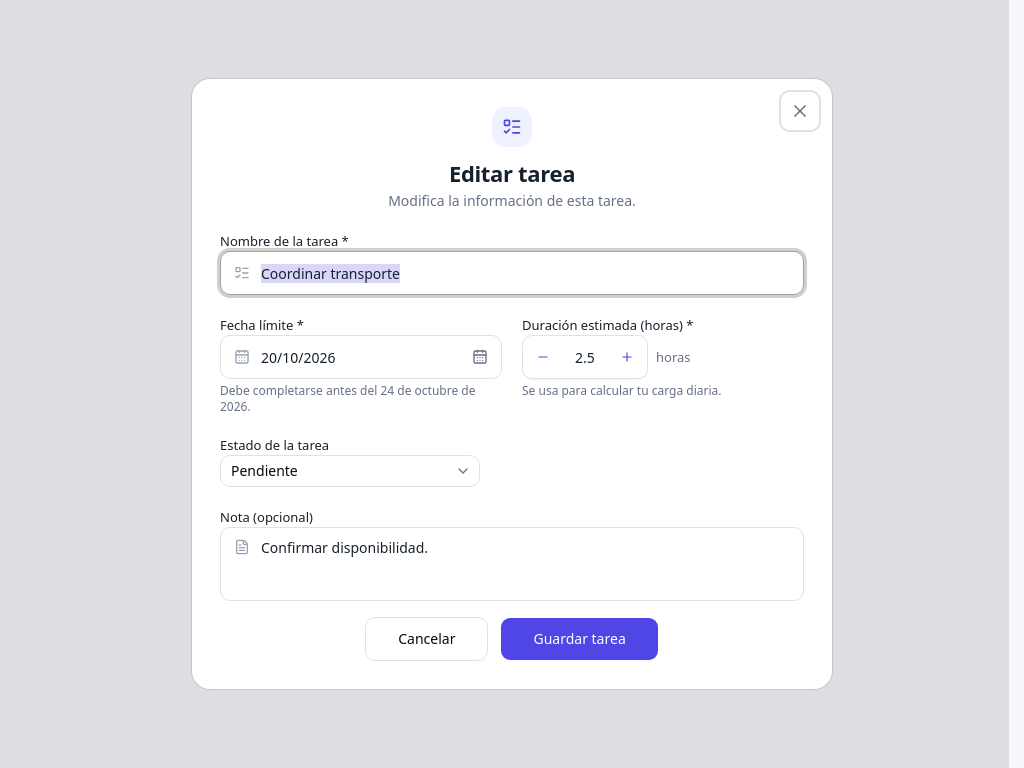
EditSubtaskDialog › rechaza horas no positivas y una fecha posterior al evento
The width and height of the screenshot is (1024, 768).
Replace the text in the field labelled "Fecha límite *" with "25/10/2026": coordinates (361, 357) [220, 335, 502, 379]
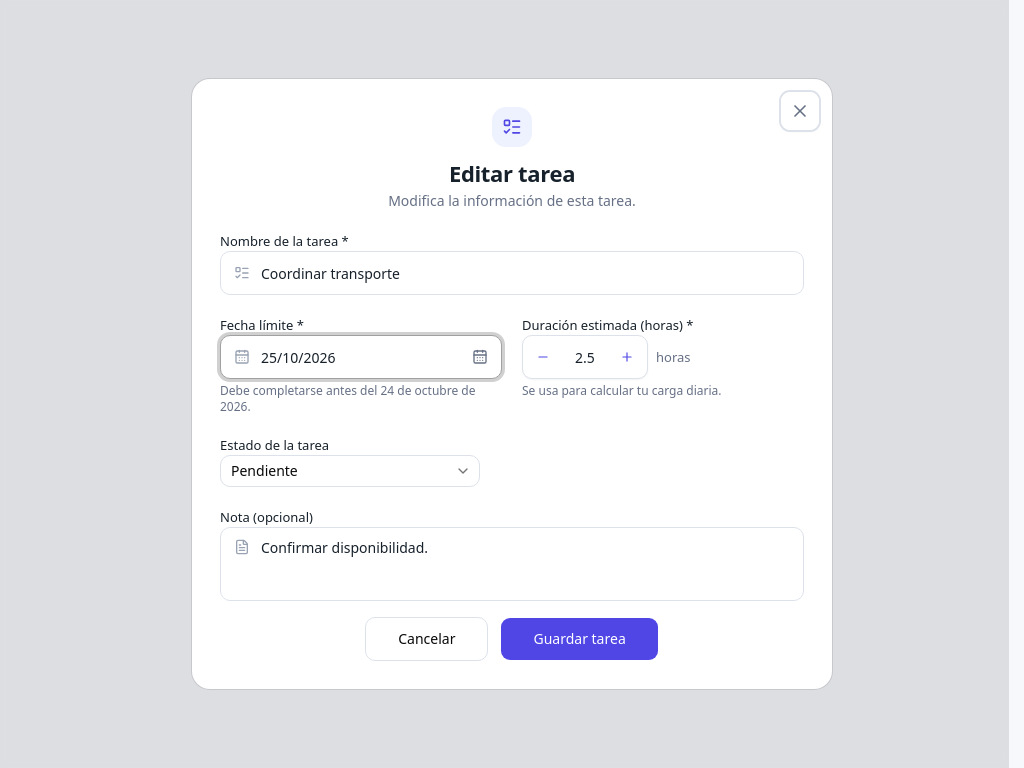
Replace the text in the number field named "Tiempo estimado *" with "0": coordinates (585, 357) [557, 341, 613, 373]
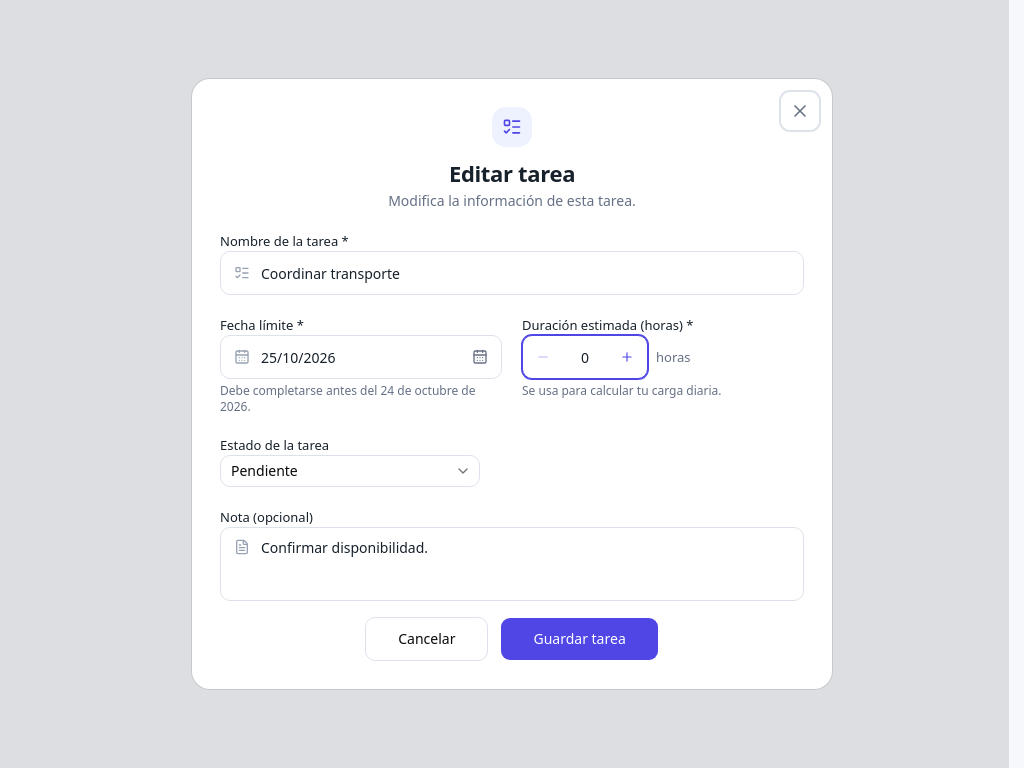
Click the button with aria-label "Guardar cambios": coordinates (580, 639) [500, 617, 659, 661]
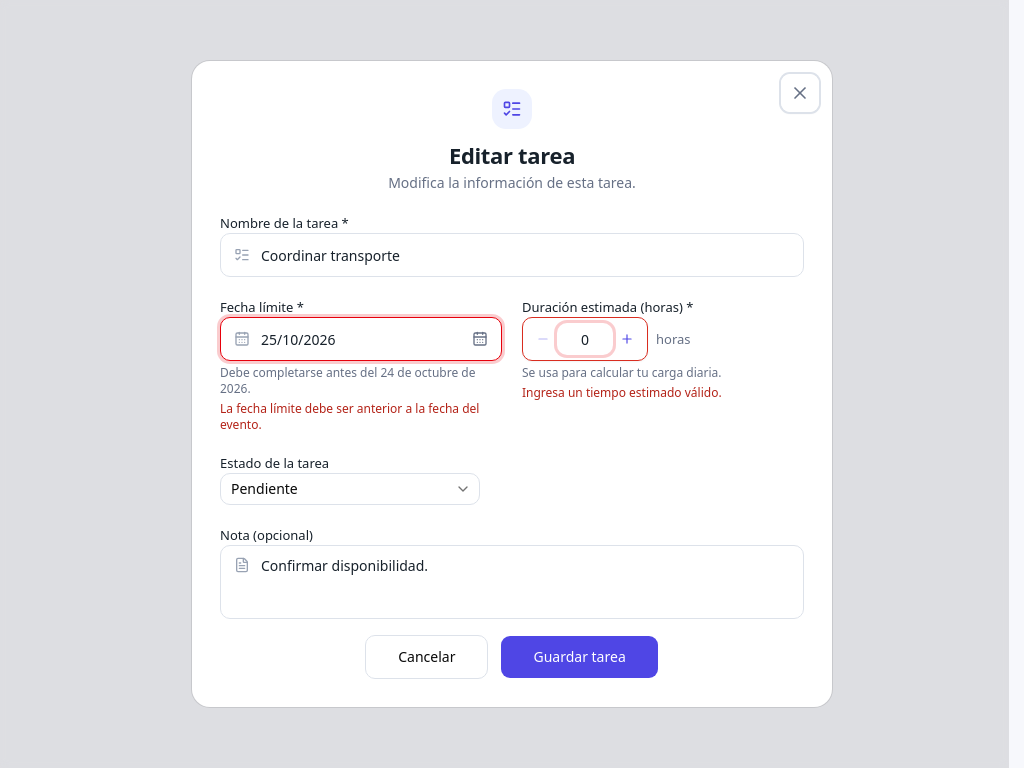
Check: the text "La fecha límite debe ser anterior a la fecha del evento." is shown, box [220, 401, 502, 433]
Check: the text "Ingresa un tiempo estimado válido." is shown, box [522, 384, 722, 401]
